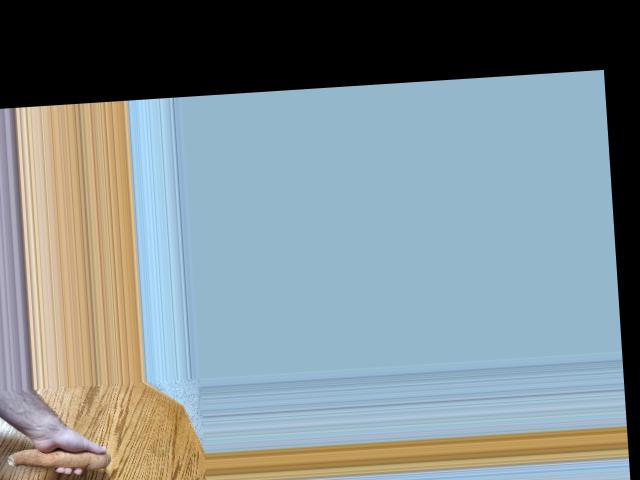sweet_potato: (3, 435, 112, 477)
